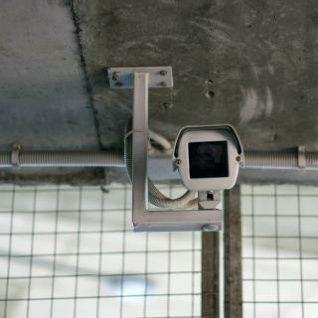CCTV: (108, 67, 245, 234)
